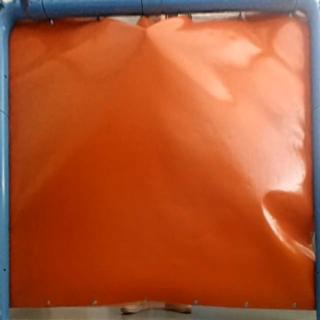Hit-hRxx: (141, 27, 154, 41)
